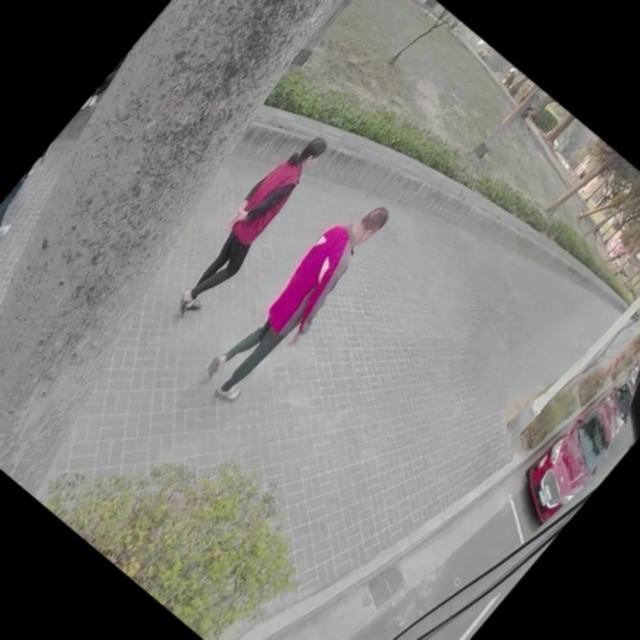person: (188, 182, 400, 421), (162, 122, 340, 322), (0, 135, 73, 248)
